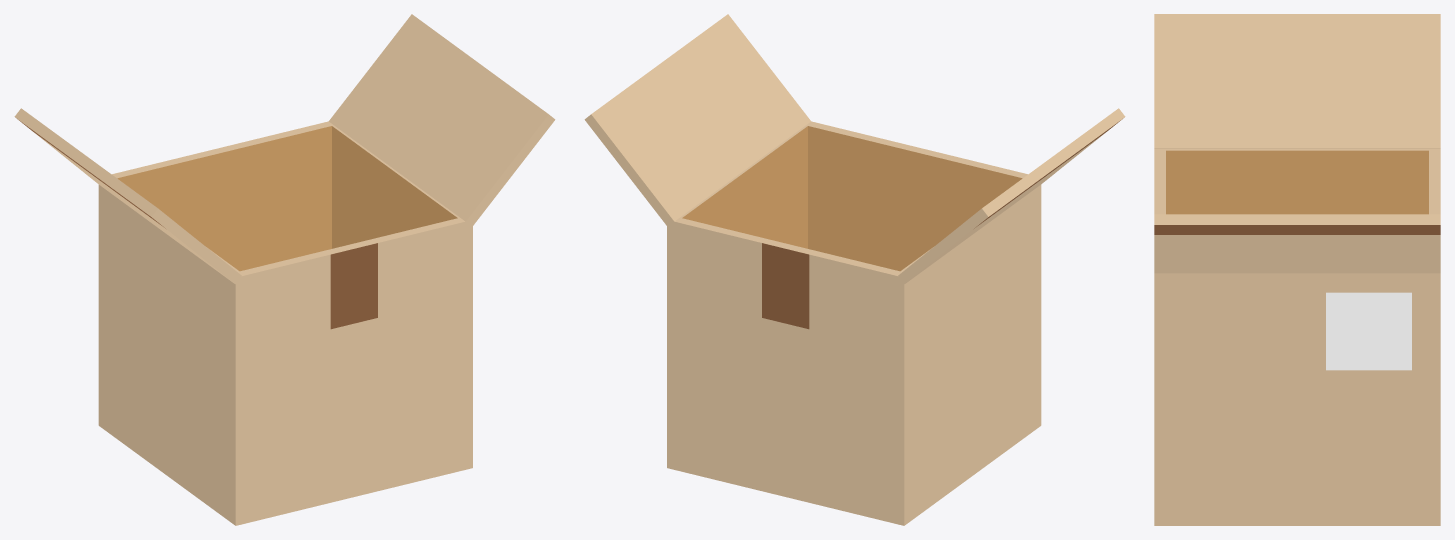
Rendered from package-box-open.glb.
The picture shows the model from 3 angles, left to right: view 1: azimuth 30°, elevation 25°; view 2: azimuth 150°, elevation 25°; view 3: azimuth 270°, elevation 25°; orthographic projection. The views are drawn at different scales.
Visible parts, largest first — view 1: package-box-open; view 2: package-box-open; view 3: package-box-open.
Boxes of the visible parts, left/top/right/bottom form: package-box-open: left=14, top=14, right=555, bottom=525; package-box-open: left=584, top=14, right=1125, bottom=525; package-box-open: left=1154, top=14, right=1440, bottom=525.
Bounding box in the file's own units: 1.28 × 1.02 × 0.75.
1 material, 1 textured.
